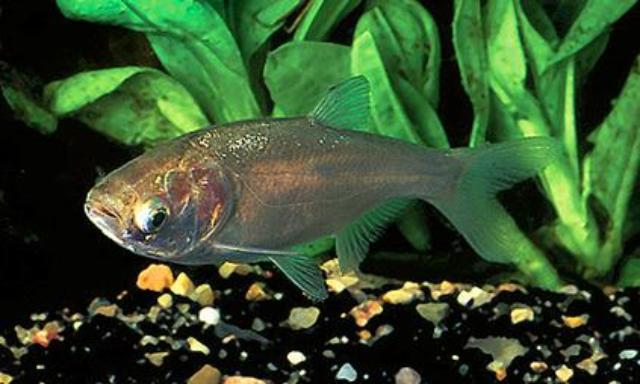Mulut: (80, 182, 134, 236)
Sirip Anal: (340, 184, 424, 276)
Sirip Dada: (202, 227, 290, 265)
Sirip Ekor: (454, 111, 576, 279)
Sirip Perut: (266, 242, 330, 302)
Sirip Punggung: (298, 68, 386, 136)
